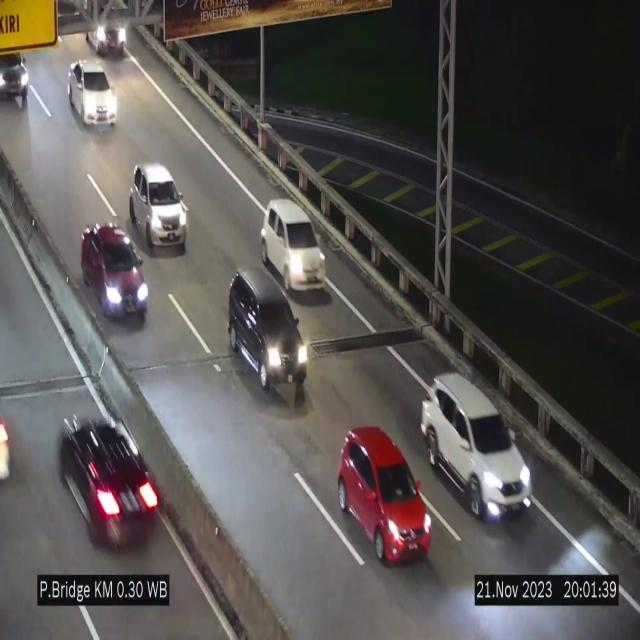Car: (420, 373, 533, 520), (338, 425, 431, 563), (227, 265, 309, 400), (81, 224, 148, 322), (261, 199, 330, 293), (130, 163, 187, 253), (69, 59, 117, 129)
